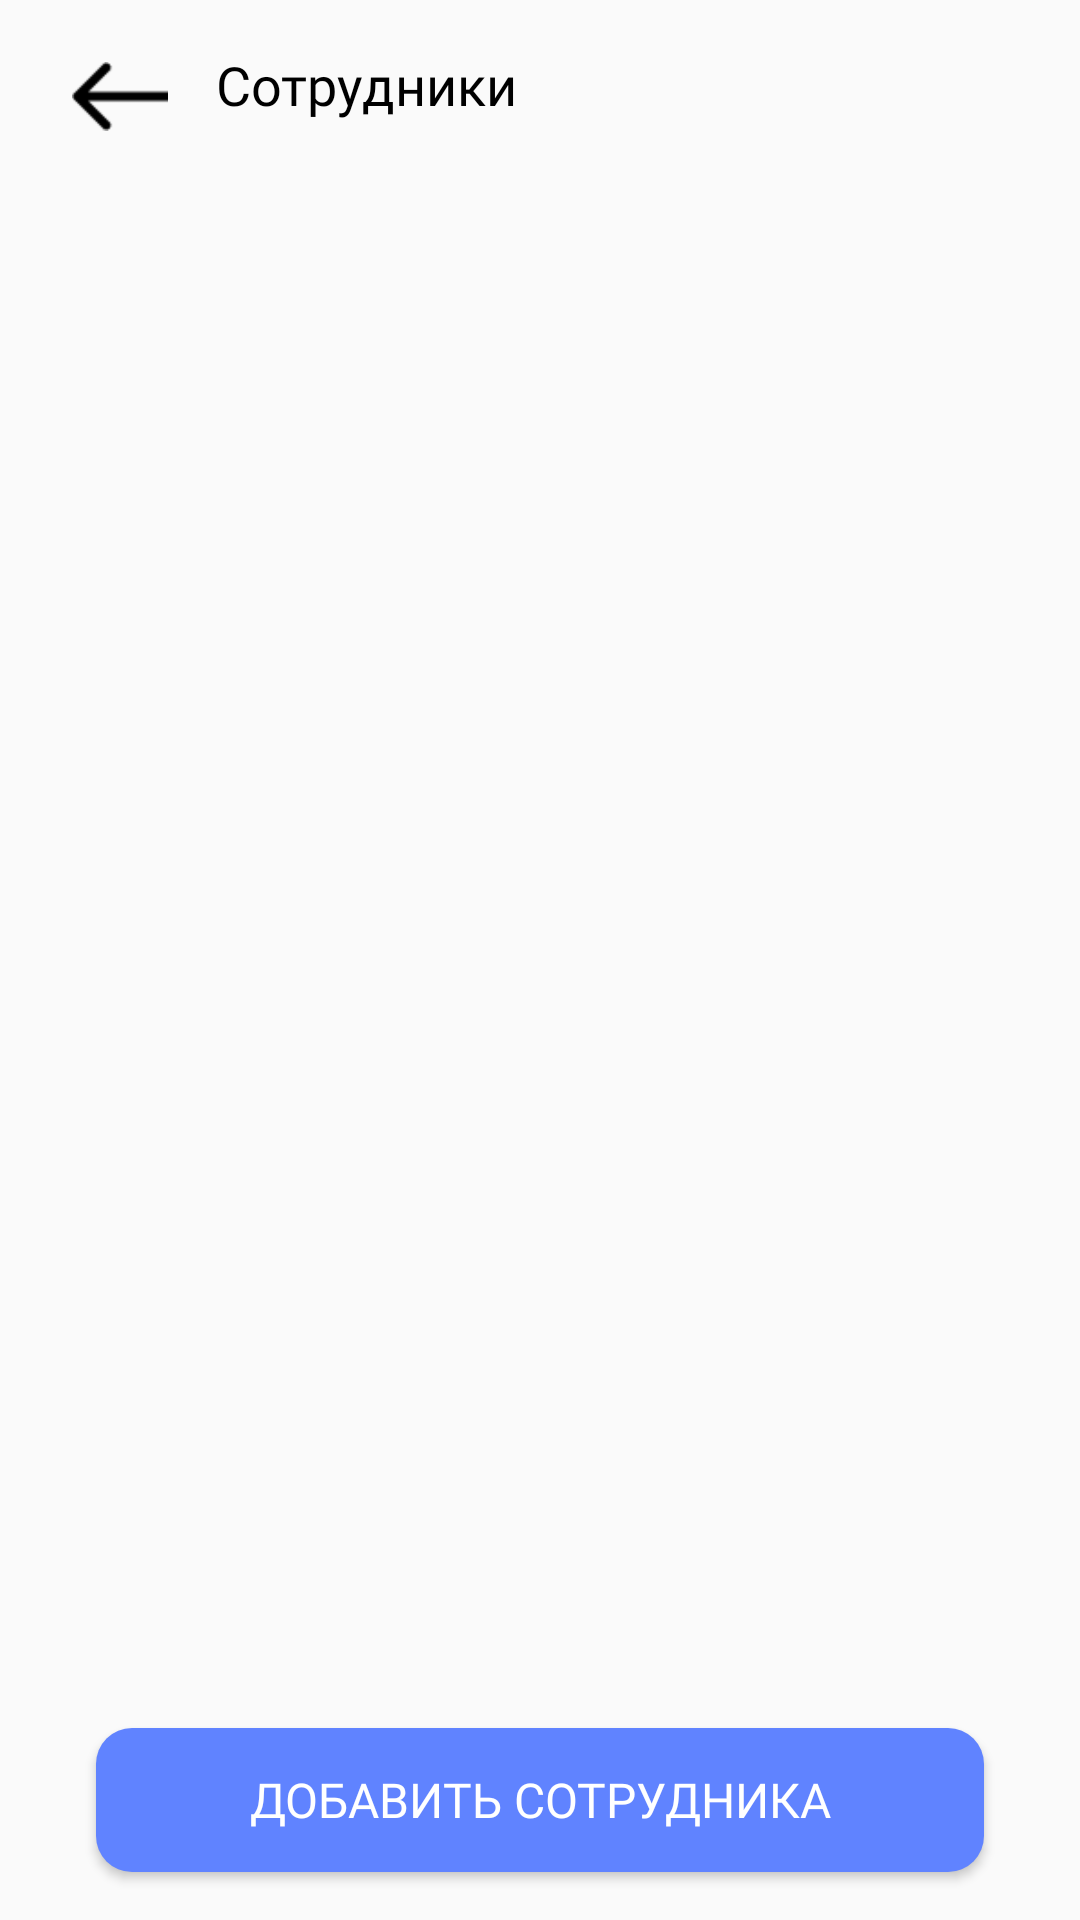

Named icons in this screenshot (1080 x 1920) and their bounding boxes, [left=x1, top=y1, right=x2, bottom=y2]:
Выйти: [left=72, top=62, right=168, bottom=131]
